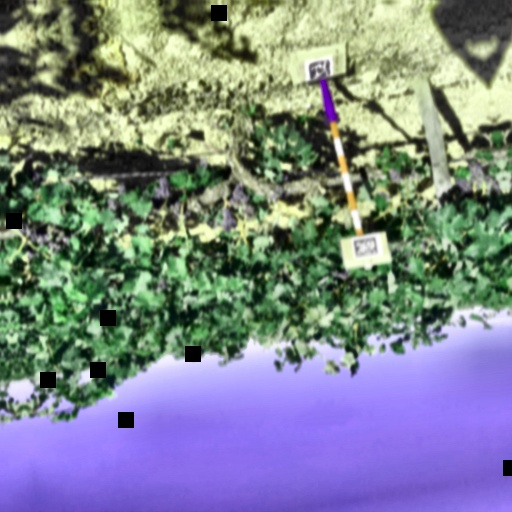QR: (350, 234, 378, 257), (305, 58, 330, 80)
